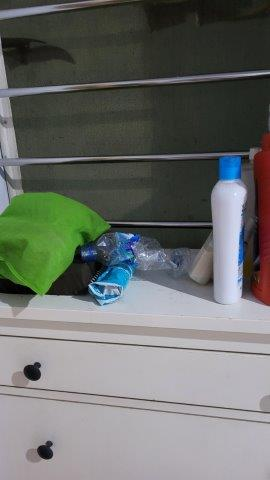botolplastik: (75, 232, 196, 271)
